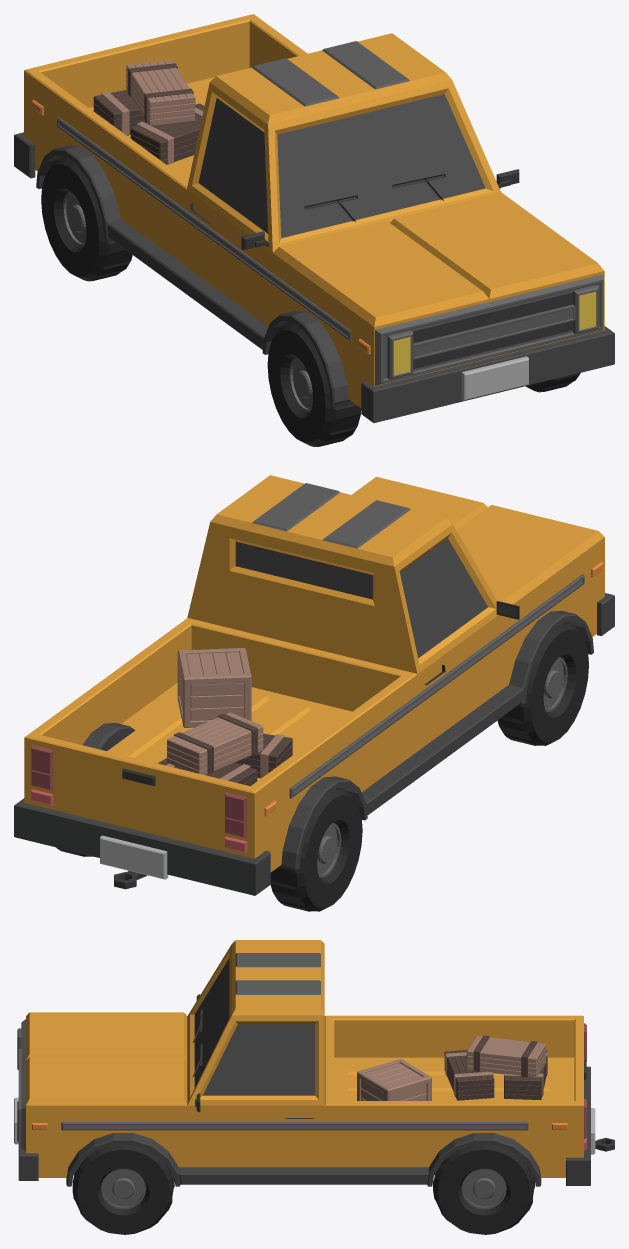
File: pickup.glb
3 renders of one model, top to bottom at view 1: azimuth 30°, elevation 25°; view 2: azimuth 150°, elevation 25°; view 3: azimuth 270°, elevation 25°, orthographic. The views are drawn at different scales.
Parts seen in each view (by area): view 1: body, wheel_front_L, wheel_rear_L; view 2: body, wheel_rear_L, wheel_front_L; view 3: body, wheel_front_R, wheel_rear_R.
Part boxes in pixels (box(x1,y1,x2,y2)): body: box(14, 14, 614, 422); wheel_front_L: box(267, 322, 361, 446); wheel_rear_L: box(41, 156, 132, 281); body: box(14, 475, 614, 895); wheel_rear_L: box(270, 787, 362, 911); wheel_front_L: box(497, 621, 588, 745); body: box(14, 940, 614, 1186); wheel_front_R: box(72, 1144, 174, 1234); wheel_rear_R: box(433, 1144, 535, 1234).
Bounding box in the file's own units: 2.27 × 2.11 × 5.37.
1 material, 1 textured.
